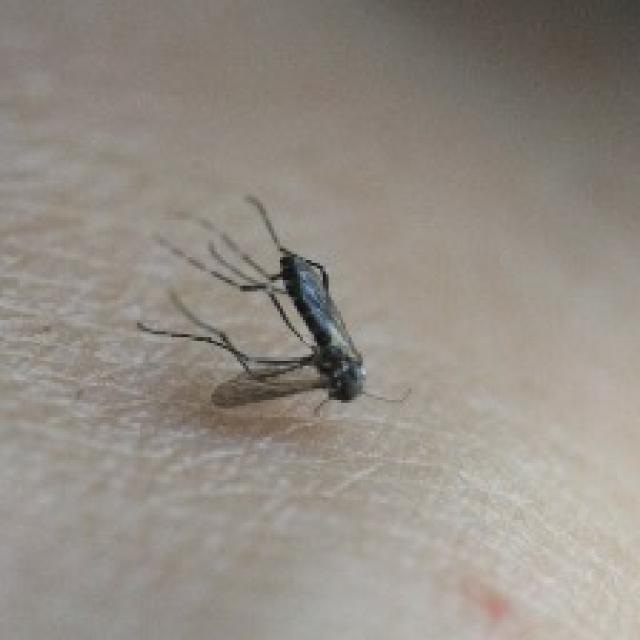aedes: (132, 192, 408, 417)
